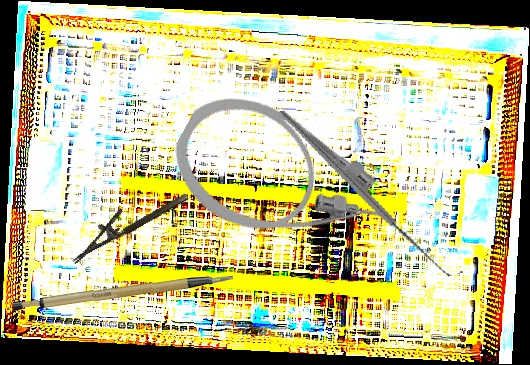Cannula: (155, 74, 412, 291)
Hook Surgical: (277, 76, 463, 309)
Needle Holder: (61, 177, 191, 265)
Scalpel Handle: (12, 271, 234, 318)
